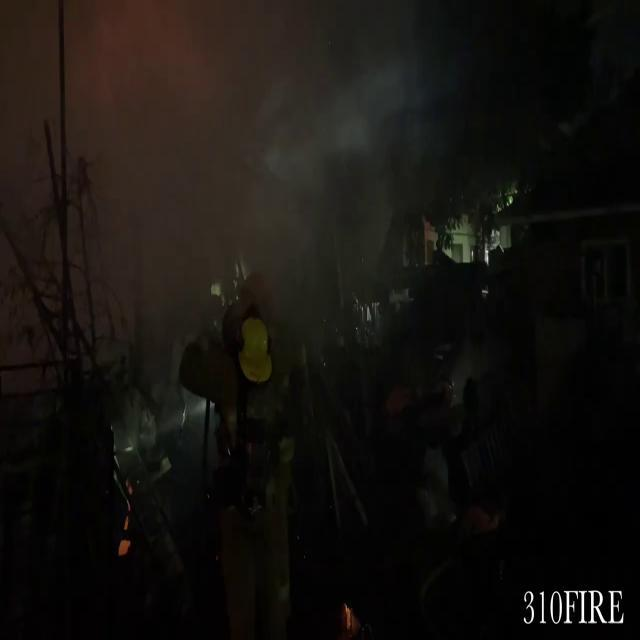Smoke: (2, 0, 426, 296)
